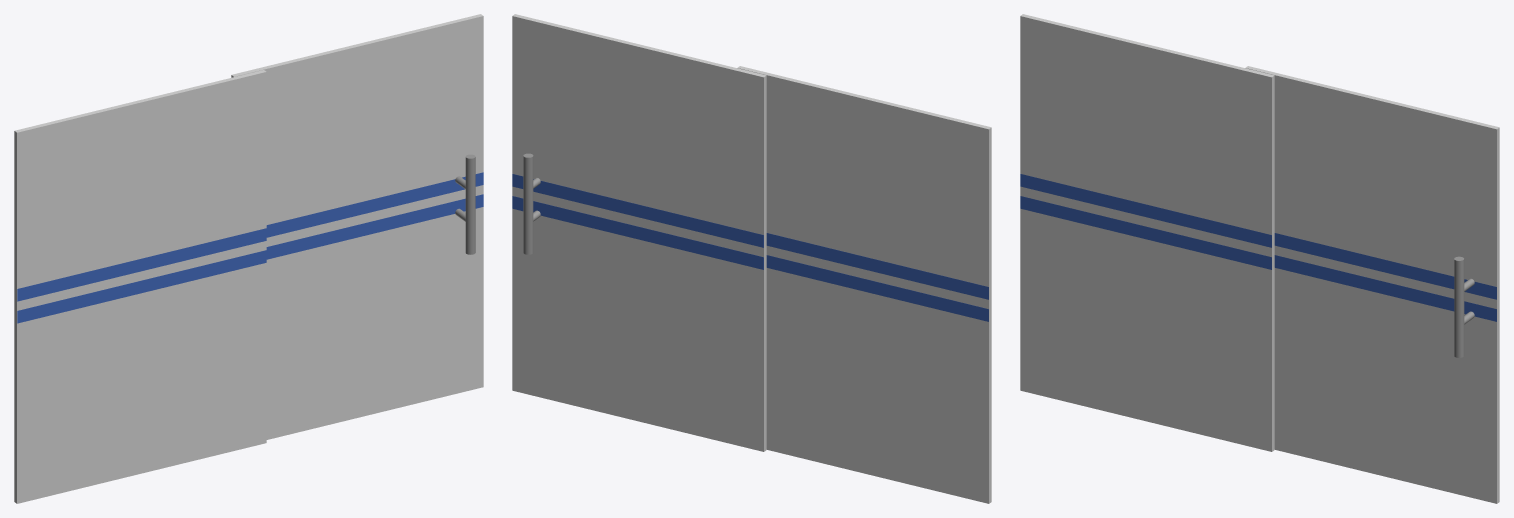
The model's file is porta.fbx.
3 renders of one model, left to right at view 1: azimuth 30°, elevation 25°; view 2: azimuth 150°, elevation 25°; view 3: azimuth 330°, elevation 25°, orthographic.
Parts seen in each view (by area): view 1: Cube.002, Cube.003, Cube.005, Cube, Cylinder.001; view 2: Cube.003, Cube.002, Cube, Cube.005, Cylinder.001; view 3: Cube.002, Cube.003, Cube.005, Cube, Cylinder.001.
Boxes of the visible parts, left/top/right/bottom form: Cube.002: left=14, top=70, right=266, bottom=503; Cube.003: left=231, top=14, right=483, bottom=439; Cube.005: left=17, top=228, right=266, bottom=323; Cube: left=266, top=172, right=483, bottom=259; Cylinder.001: left=455, top=154, right=475, bottom=254; Cube.003: left=512, top=14, right=766, bottom=451; Cube.002: left=737, top=66, right=991, bottom=503; Cube: left=512, top=174, right=763, bottom=269; Cube.005: left=766, top=233, right=988, bottom=321; Cylinder.001: left=523, top=153, right=540, bottom=254; Cube.002: left=1020, top=14, right=1274, bottom=451; Cube.003: left=1245, top=66, right=1499, bottom=503; Cube.005: left=1020, top=174, right=1271, bottom=269; Cube: left=1274, top=233, right=1496, bottom=321; Cylinder.001: left=1454, top=256, right=1474, bottom=357.
Bounding box in the file's own units: 4482 × 3386 × 482.
